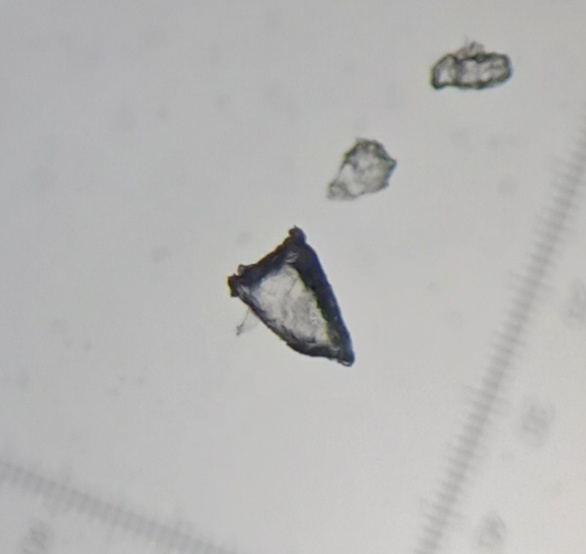microplastic: (221, 228, 367, 372), (325, 131, 402, 208), (424, 39, 515, 96)
